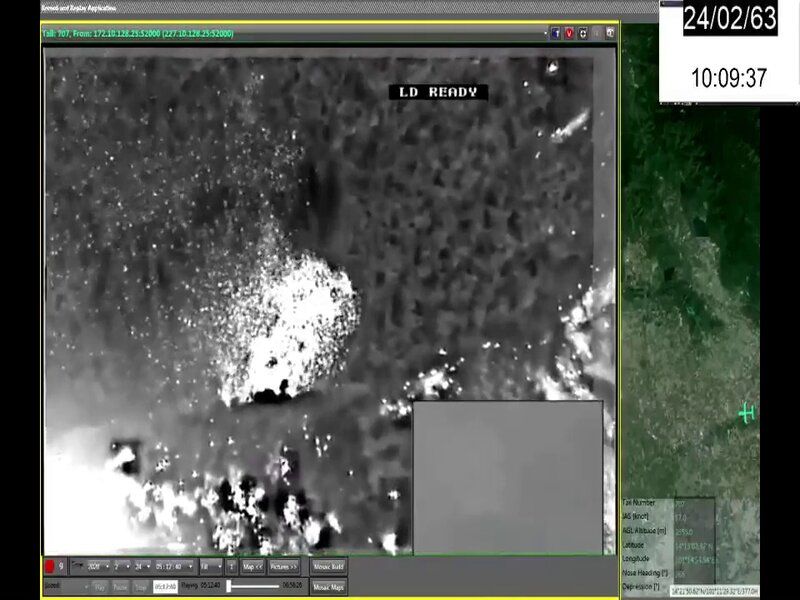Fire: (217, 243, 366, 413)
